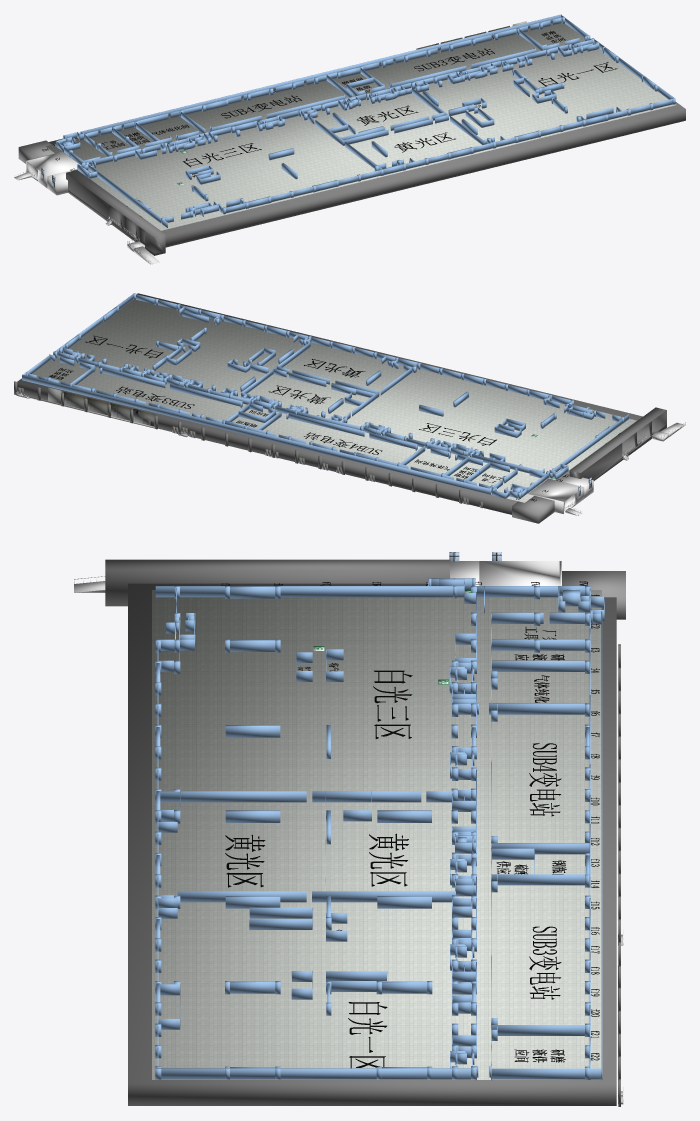
Rendered from 2f_mini.gltf.
3 views of the same model, one above another, from view 1: azimuth 30°, elevation 25°; view 2: azimuth 150°, elevation 25°; view 3: azimuth 270°, elevation 25° (orthographic). The views are drawn at different scales.
Visible parts, largest first — view 1: fab_n2_dimian_2f, fab_n2_waiguan_2_77, fab_n2_waiguan_2_201, fab_n2_qiang_2f_90, fab_n2_waiguan_2_200, fab_n2_waiguan_2_76, fab_n2_qiang_2f_15, fab_n2_qiang_2f_25; view 2: fab_n2_dimian_2f, fab_n2_waiguan_2_77, fab_n2_qiang_2f_90, fab_n2_waiguan_2_201, fab_n2_waiguan_2_200, fab_n2_waiguan_2_76, fab_n2_qiang_2f_119, fab_n2_qiang_2f_15, fab_n2_qiang_2f_133, fab_n2_qiang_2f_134, fab_n2_qiang_2f_162; view 3: fab_n2_dimian_2f, fab_n2_waiguan_2_77, fab_n2_waiguan_2_201, fab_n2_qiang_2f_285, fab_n2_qiang_2f_15, fab_n2_waiguan_2_200, fab_n2_qiang_2f_353, fab_n2_waiguan_2_76, fab_n2_qiang_2f_354, fab_n2_qiang_2f_287, fab_n2_qiang_2f_91, fab_n2_qiang_2f_288 (+10 smaller).
Boxes of the visible parts, x1,y1,x2,y2 form: fab_n2_dimian_2f: (46,22,675,230); fab_n2_waiguan_2_77: (49,28,685,247); fab_n2_waiguan_2_201: (66,170,165,255); fab_n2_qiang_2f_90: (79,14,561,134); fab_n2_waiguan_2_200: (26,151,81,187); fab_n2_waiguan_2_76: (18,140,54,163); fab_n2_qiang_2f_15: (88,164,167,227); fab_n2_qiang_2f_25: (91,143,163,165); fab_n2_dimian_2f: (32,299,636,502); fab_n2_waiguan_2_77: (17,293,642,514); fab_n2_qiang_2f_90: (22,374,491,494); fab_n2_waiguan_2_201: (569,407,666,480); fab_n2_waiguan_2_200: (528,478,584,513); fab_n2_waiguan_2_76: (512,496,554,523); fab_n2_qiang_2f_119: (288,413,364,436); fab_n2_qiang_2f_15: (552,414,628,472); fab_n2_qiang_2f_133: (170,384,241,406); fab_n2_qiang_2f_134: (102,367,165,387); fab_n2_qiang_2f_162: (275,406,359,429); fab_n2_dimian_2f: (152,590,601,1079); fab_n2_waiguan_2_77: (128,583,616,1105); fab_n2_waiguan_2_201: (105,559,449,606); fab_n2_qiang_2f_285: (155,1068,471,1079); fab_n2_qiang_2f_15: (155,586,463,597); fab_n2_waiguan_2_200: (479,561,561,585); fab_n2_qiang_2f_353: (160,791,306,802); fab_n2_waiguan_2_76: (562,571,625,619); fab_n2_qiang_2f_354: (312,791,421,802); fab_n2_qiang_2f_287: (312,891,455,902); fab_n2_qiang_2f_91: (491,1068,601,1079); fab_n2_qiang_2f_288: (177,891,306,902).
Bounding box in the file's own units: 349 × 11.01 × 152.
Materials: 39 (30 with a texture image).
